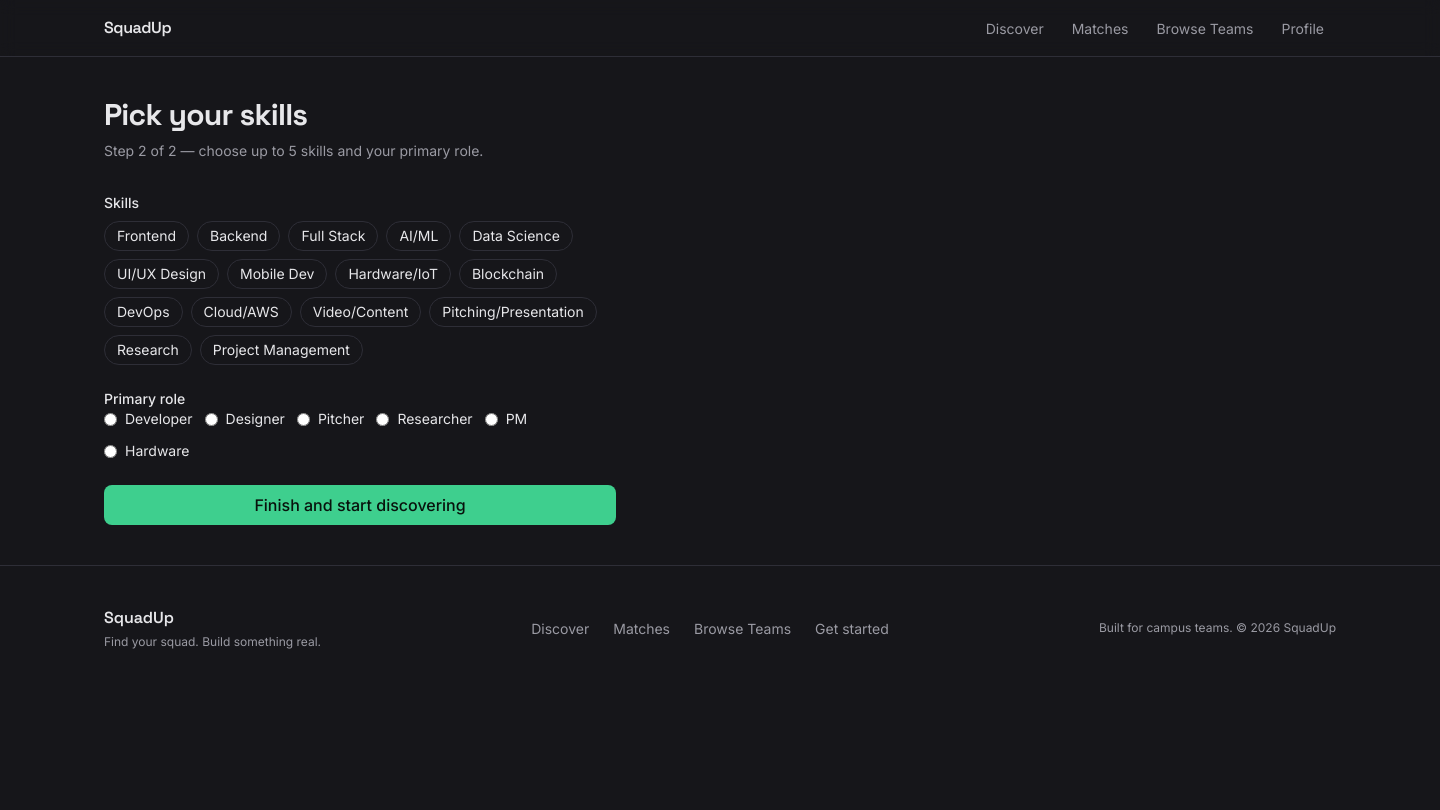
Test: onboarding skills page › tracks selection and disables further picks at five
Click the button "Frontend" at (146, 236), box x1=104 y1=221 x2=189 y2=251
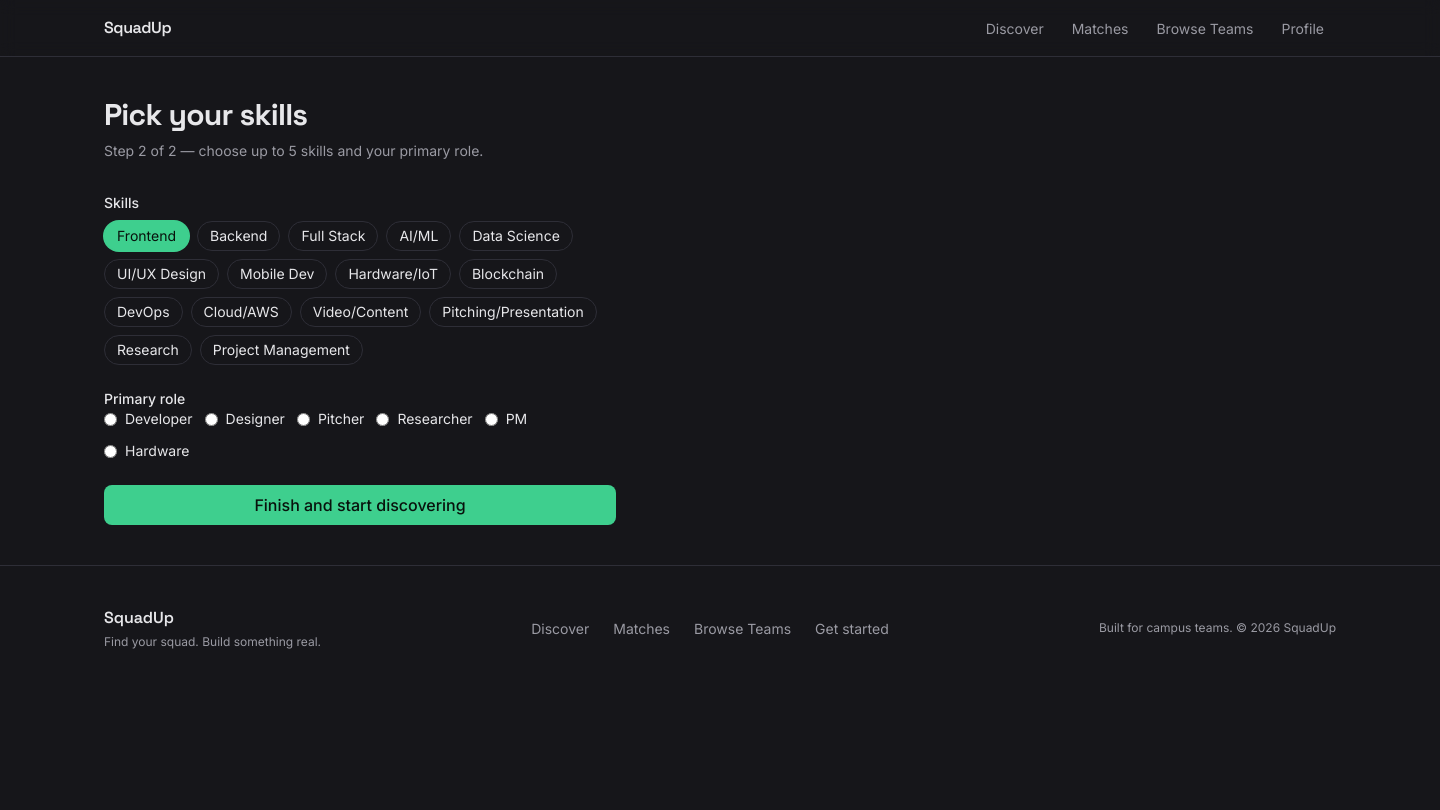
Click the button "Backend" at (239, 236), box x1=197 y1=221 x2=280 y2=251
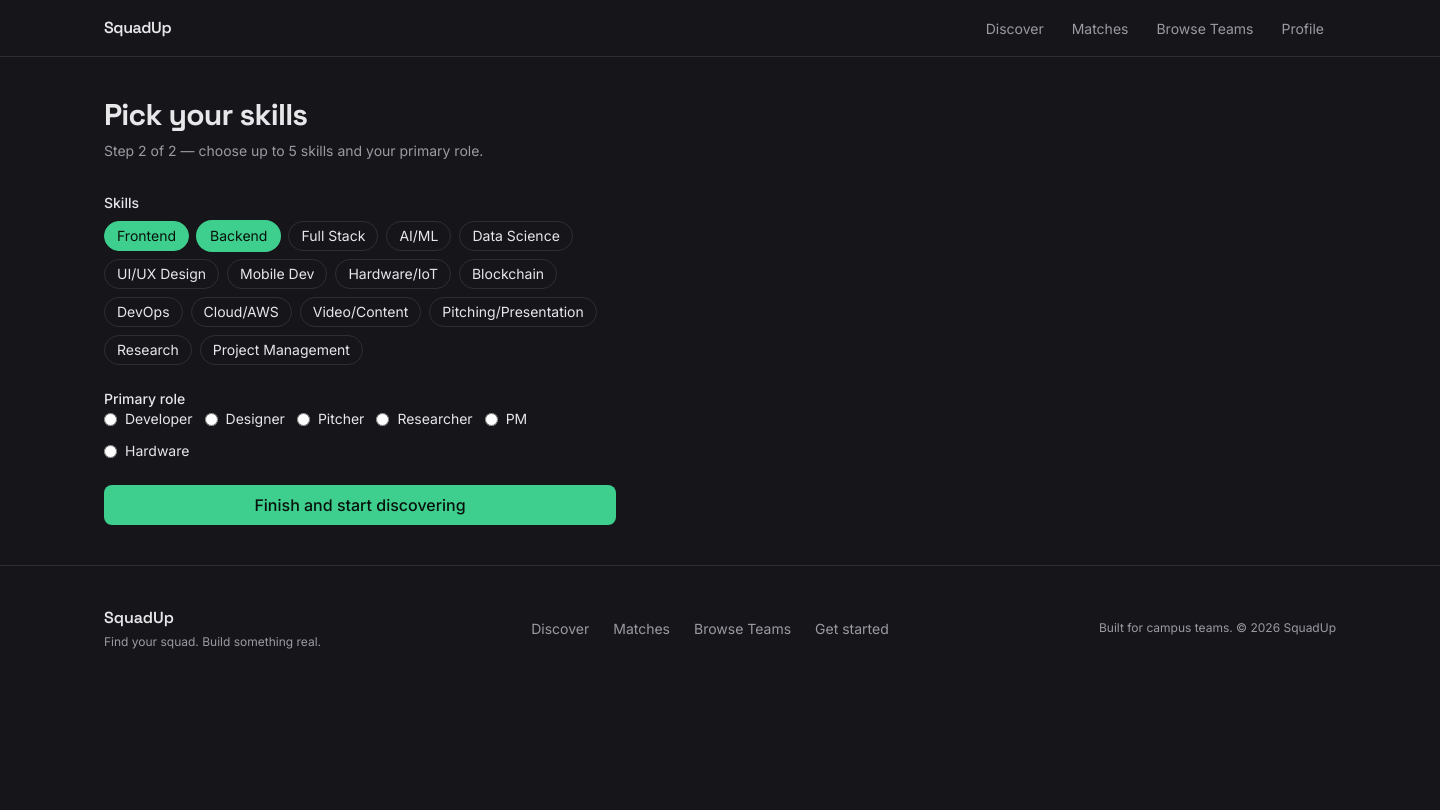
Click the button "AI/ML" at (419, 236), box x1=386 y1=221 x2=451 y2=251
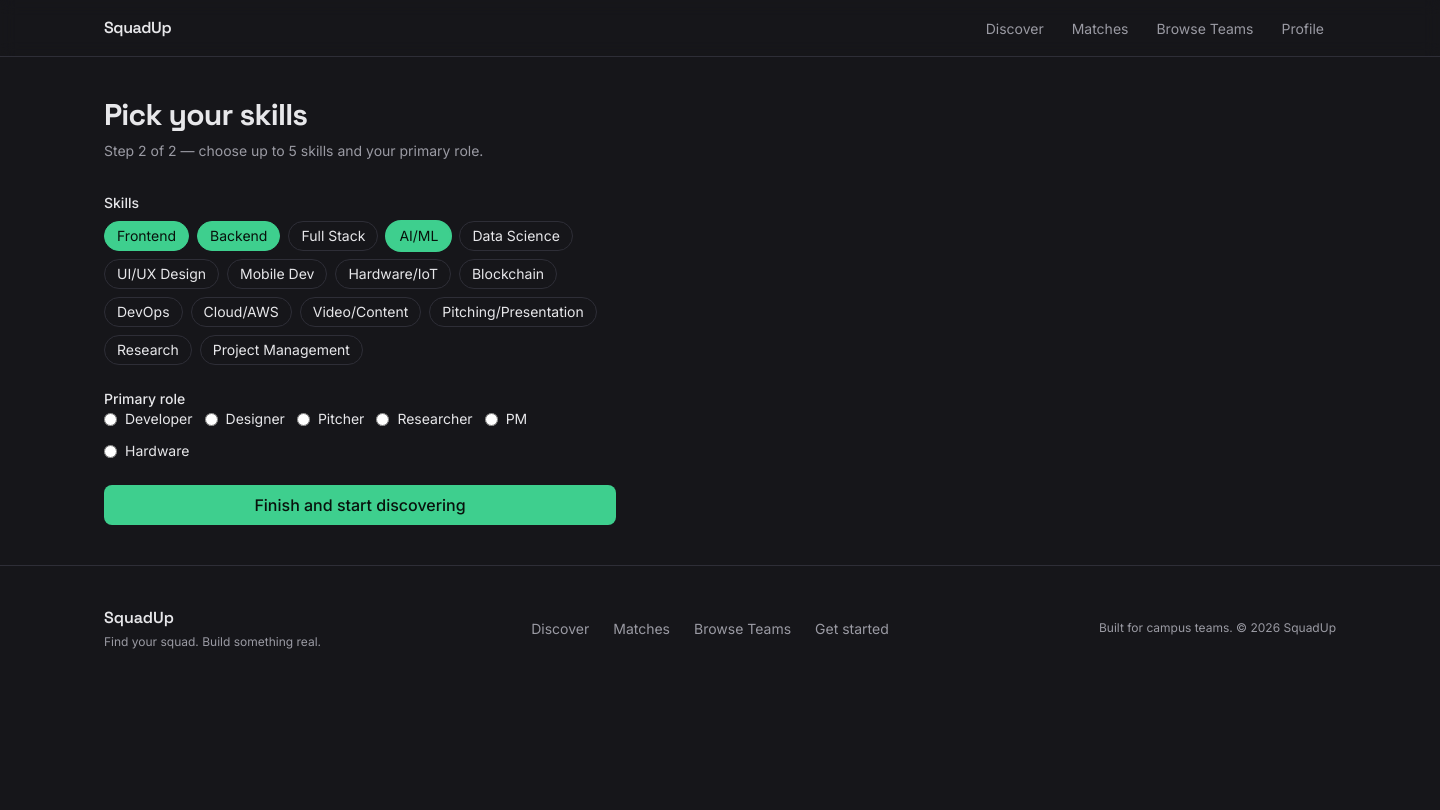
Click the button "DevOps" at (143, 312), box x1=104 y1=297 x2=182 y2=327
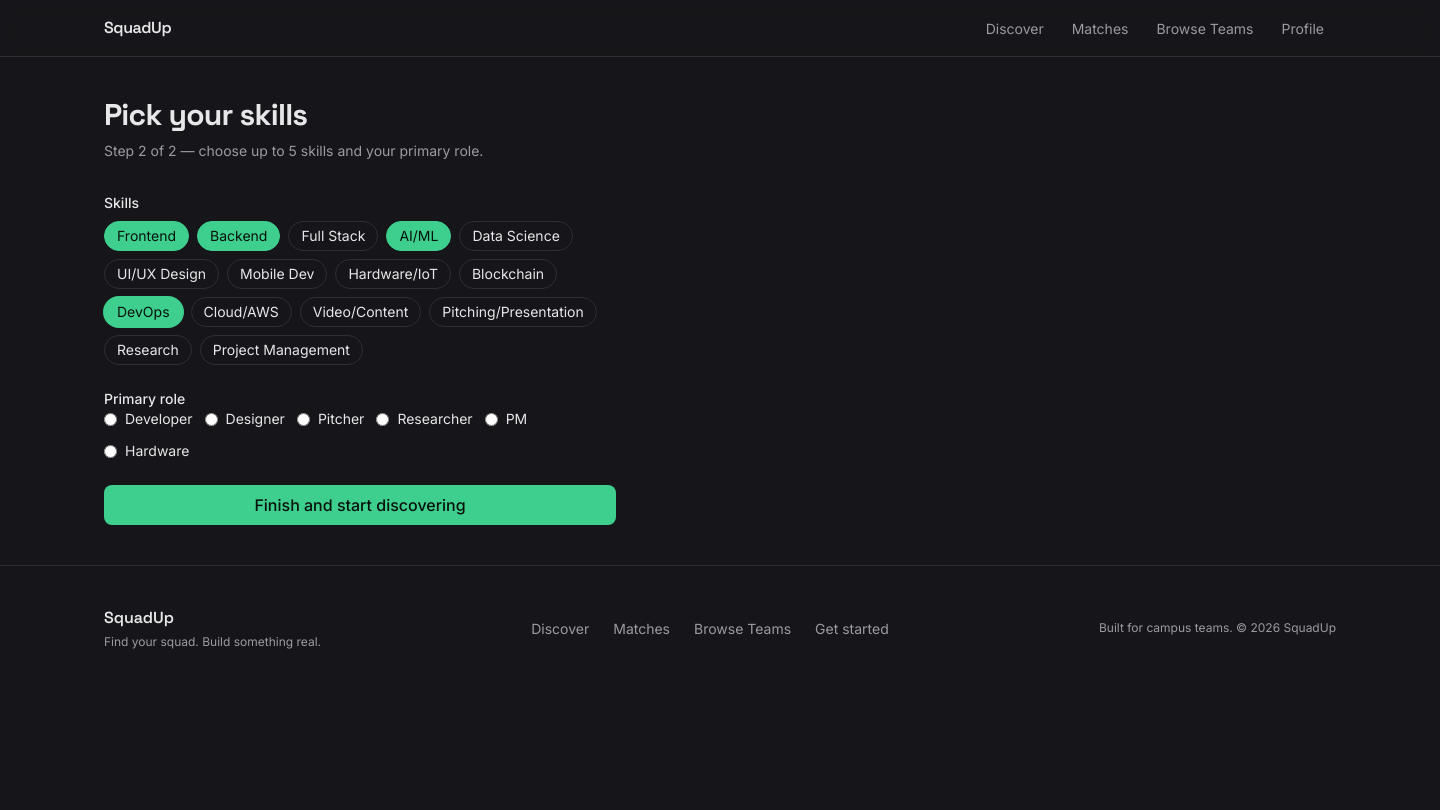
Click the button "Research" at (148, 350), box x1=104 y1=335 x2=192 y2=365
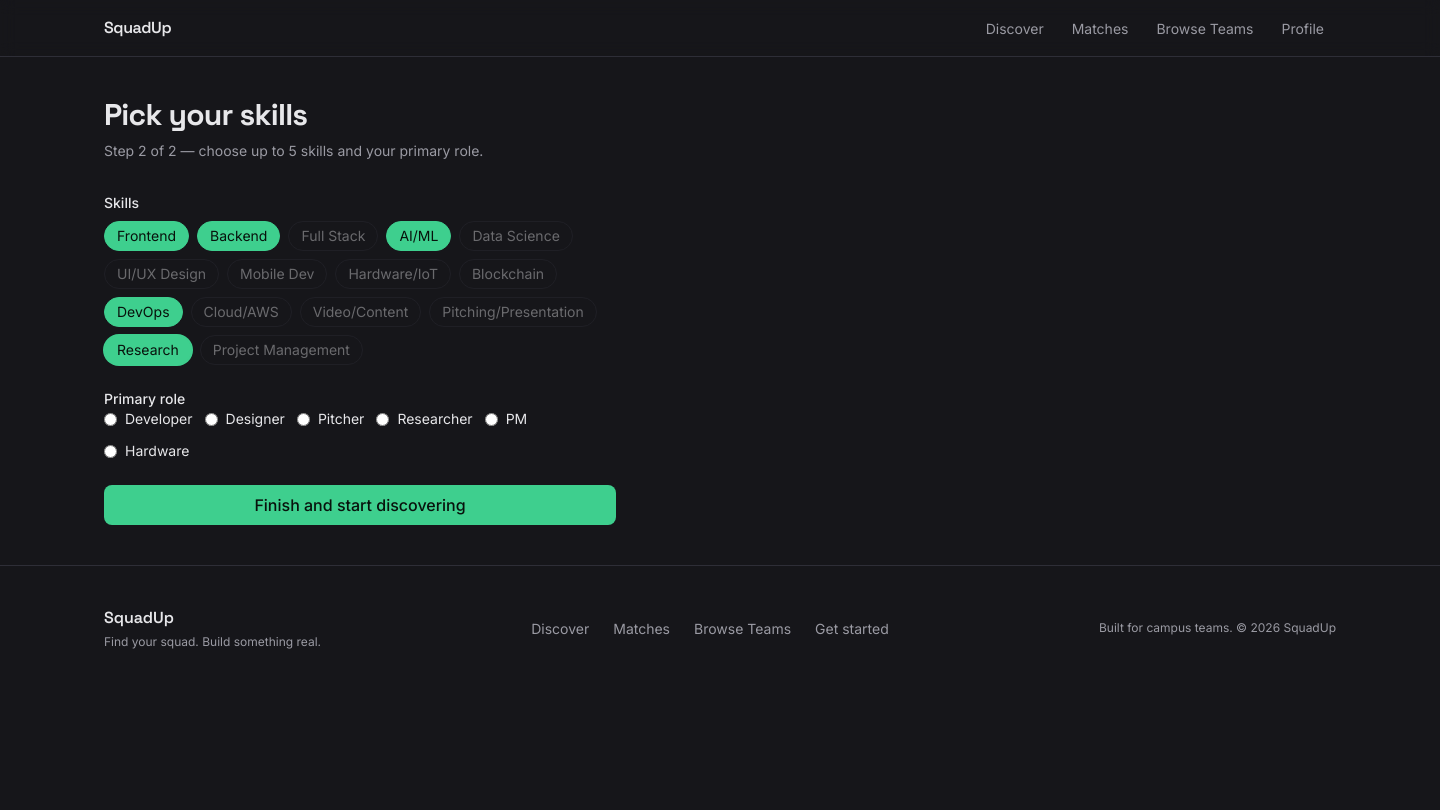
Expected: the button "Data Science" is disabled, x1=459 y1=221 x2=573 y2=251
